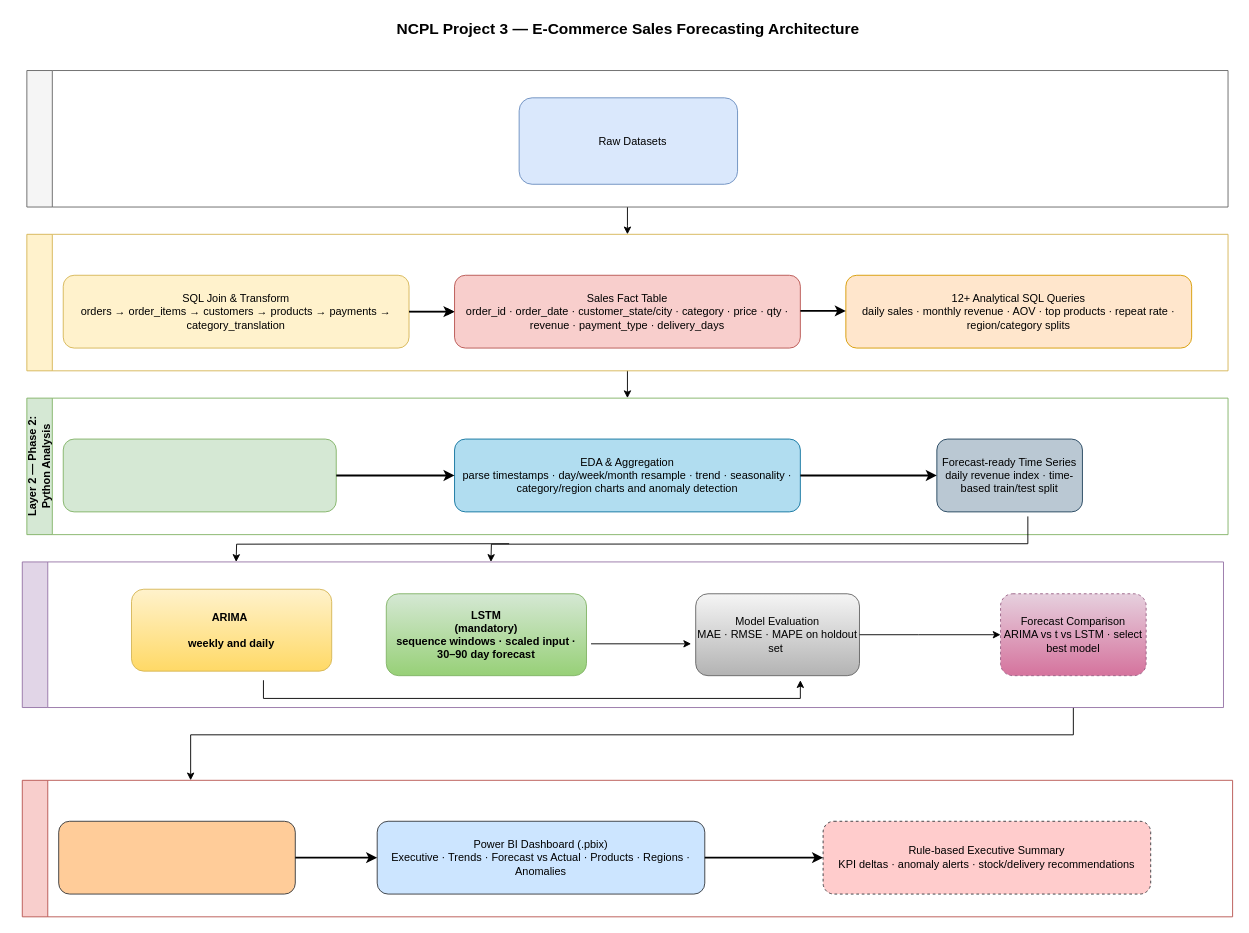
The diagram is 1249 pixels wide and 933 high, and some of its shapes have lost their labels. Here are the shapes that lost their labels. From the top down, the box of each, then its label:
(26, 70, 1228, 207): Layer 0 — Raw Data
(26, 233, 1228, 371): Layer 1 — Phase 1: SQL Data Modeling
(62, 438, 336, 512): Export to Python fact_sales → pandas (read_sql or outputs/fact_sales.csv)
(21, 561, 1223, 708): Layer 3 — Phase 3: Time-Series Forecasting
(58, 820, 295, 894): Export Artifacts forecasts.csv · model_metrics.json · anomalies.csv
(21, 779, 1233, 917): Layer 4 — Phase 4: Presentation & Business Layer
